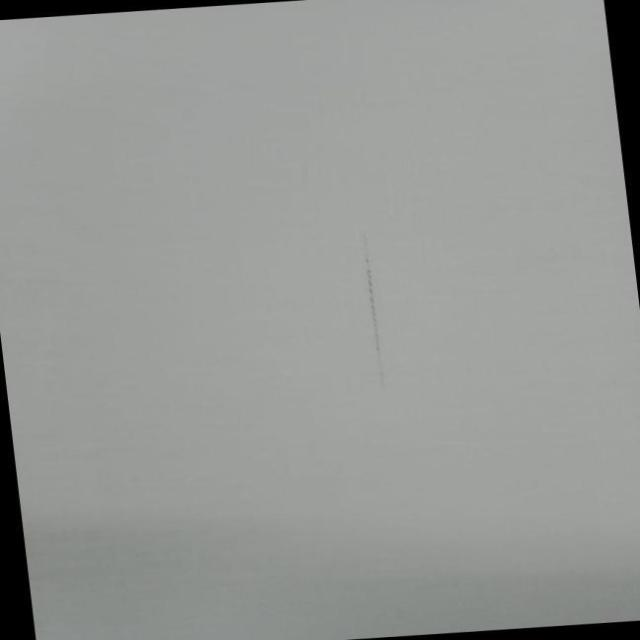contamination: (354, 227, 398, 398)
